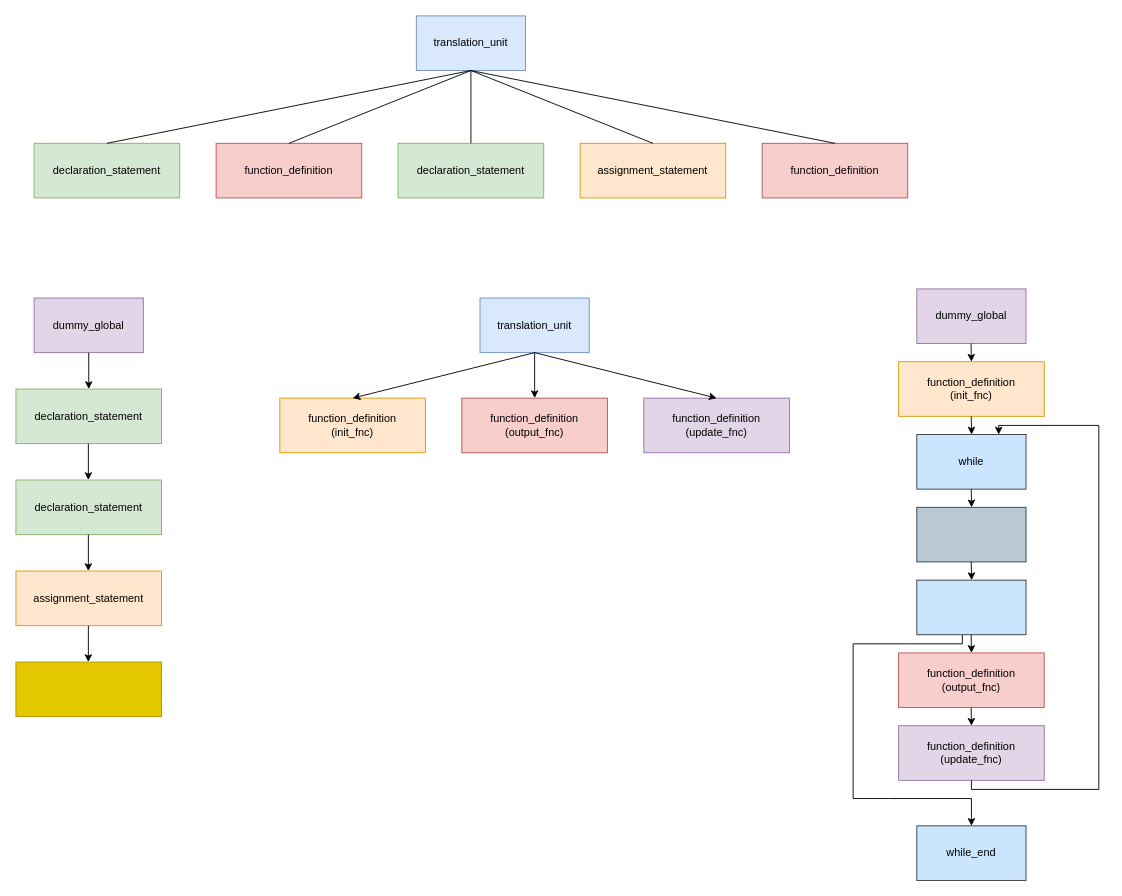
This 1122x896 diagram has some shape labels left out. The centre of each missing label's shape, as x and y in pixels:
"simulation cycle CFG" belongs at point (88, 689).
"true" belongs at point (971, 534).
"while_body" belongs at point (971, 607).
